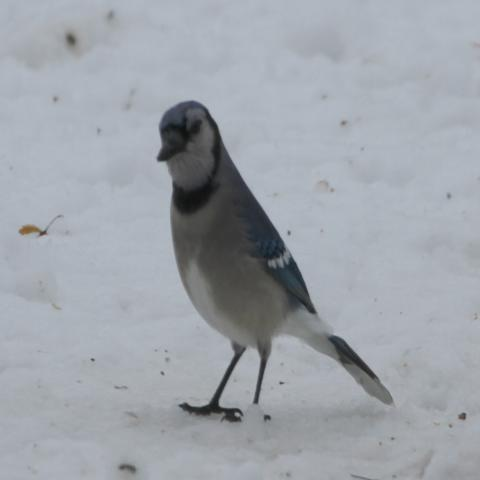bird: (153, 97, 395, 426)
